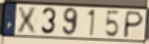1: (86, 8, 96, 37)
3: (40, 7, 59, 36)
5: (104, 9, 122, 38)
9: (62, 6, 80, 38)
P: (121, 10, 145, 39)
X: (16, 5, 40, 36)
